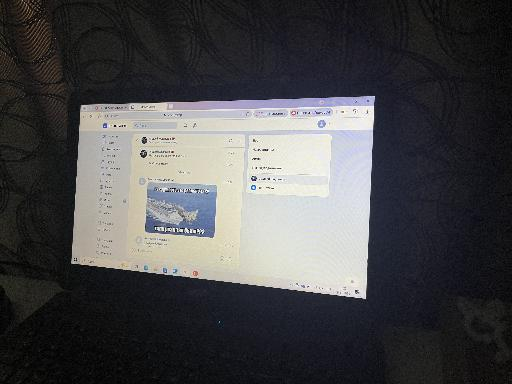vk: (81, 120, 358, 262)
